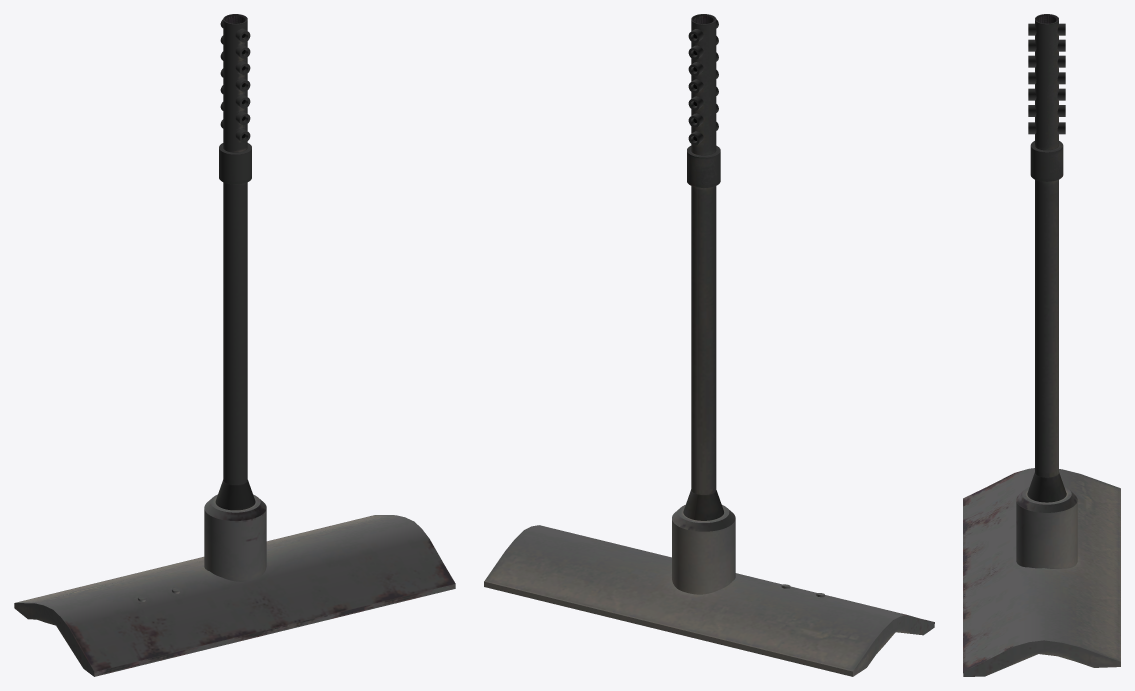
File: Gun_05.glb
The picture shows the model from 3 angles, left to right: view 1: azimuth 30°, elevation 25°; view 2: azimuth 150°, elevation 25°; view 3: azimuth 270°, elevation 25°; orthographic projection. The views are drawn at different scales.
Parts seen in each view (by area): view 1: set_0_group_0; view 2: set_0_group_0; view 3: set_0_group_0.
Boxes of the visible parts, left/top/right/bottom form: set_0_group_0: left=14, top=14, right=455, bottom=676; set_0_group_0: left=484, top=14, right=934, bottom=676; set_0_group_0: left=963, top=14, right=1120, bottom=676.
Bounding box in the file's own units: 0.8905 × 1.37 × 0.3425.
Materials: 1 (1 with a texture image).
